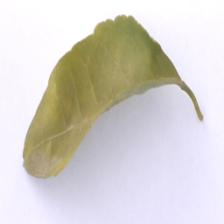greening: (13, 9, 208, 182)
